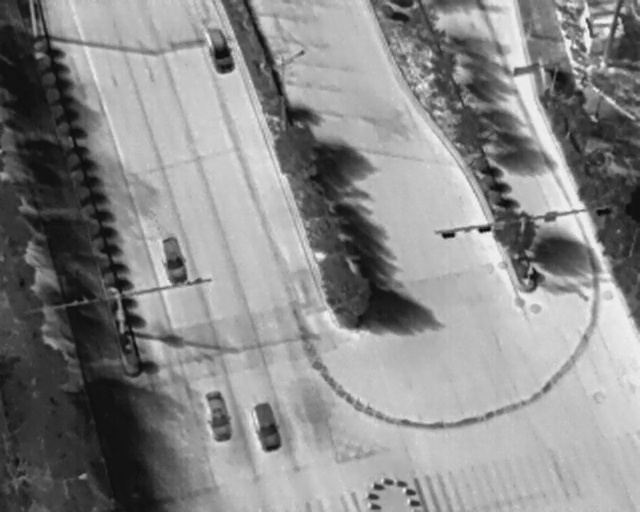Car: (200, 388, 237, 444), (249, 399, 285, 453), (202, 25, 237, 78), (157, 233, 191, 285)
